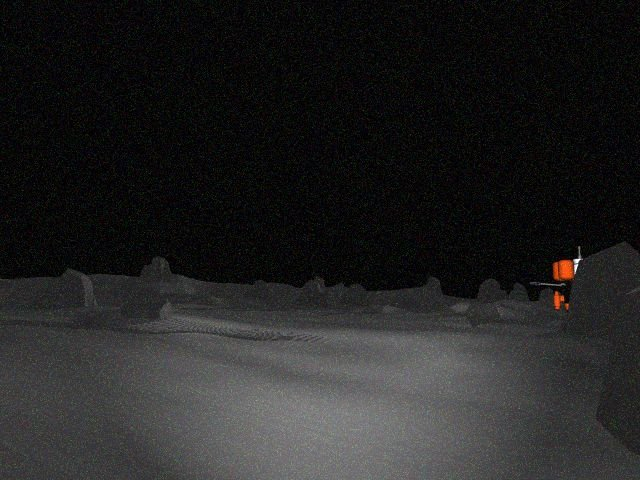homebase: (528, 239, 631, 316)
